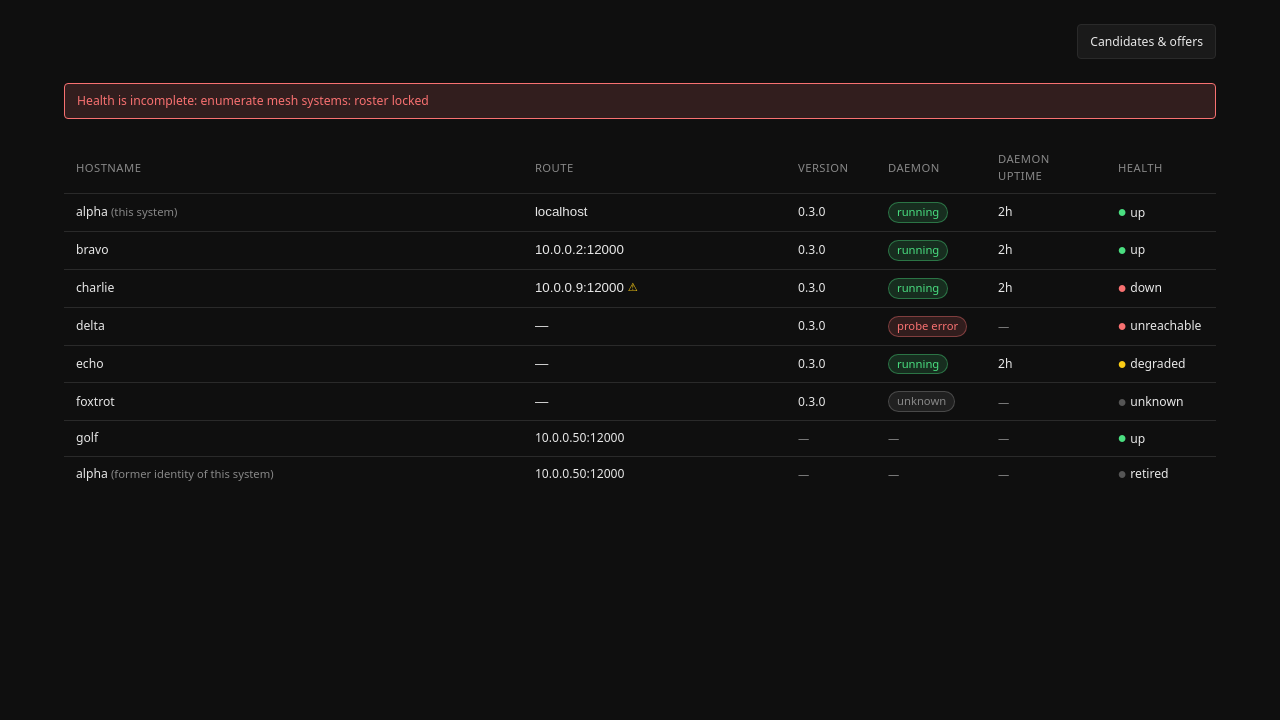
Test: /systems page › opens a route popover through the function binding
expect the button "bravo" is shown: met, box left=76, top=241, right=109, bottom=258
Click the button "10.0.0.2:12000" at (579,250), box left=535, top=242, right=624, bottom=257
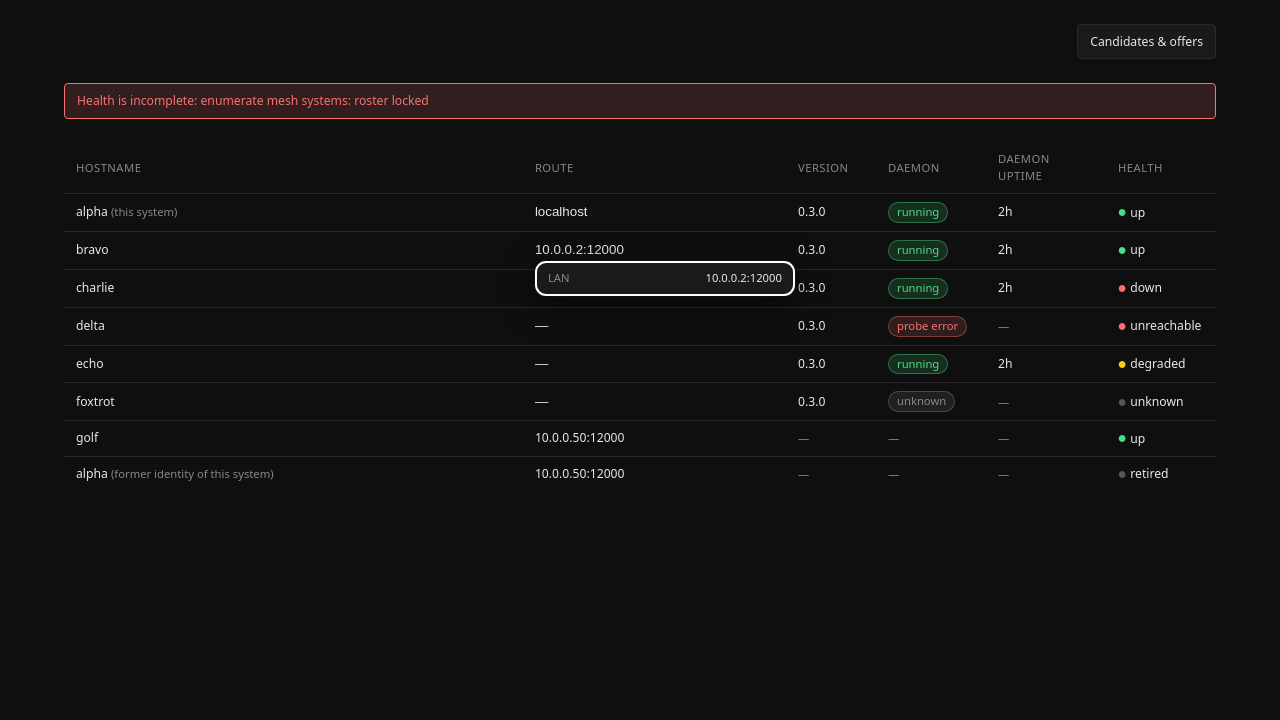
expect the dialog named "Routes for bravo" is shown: met, box left=535, top=261, right=795, bottom=296
